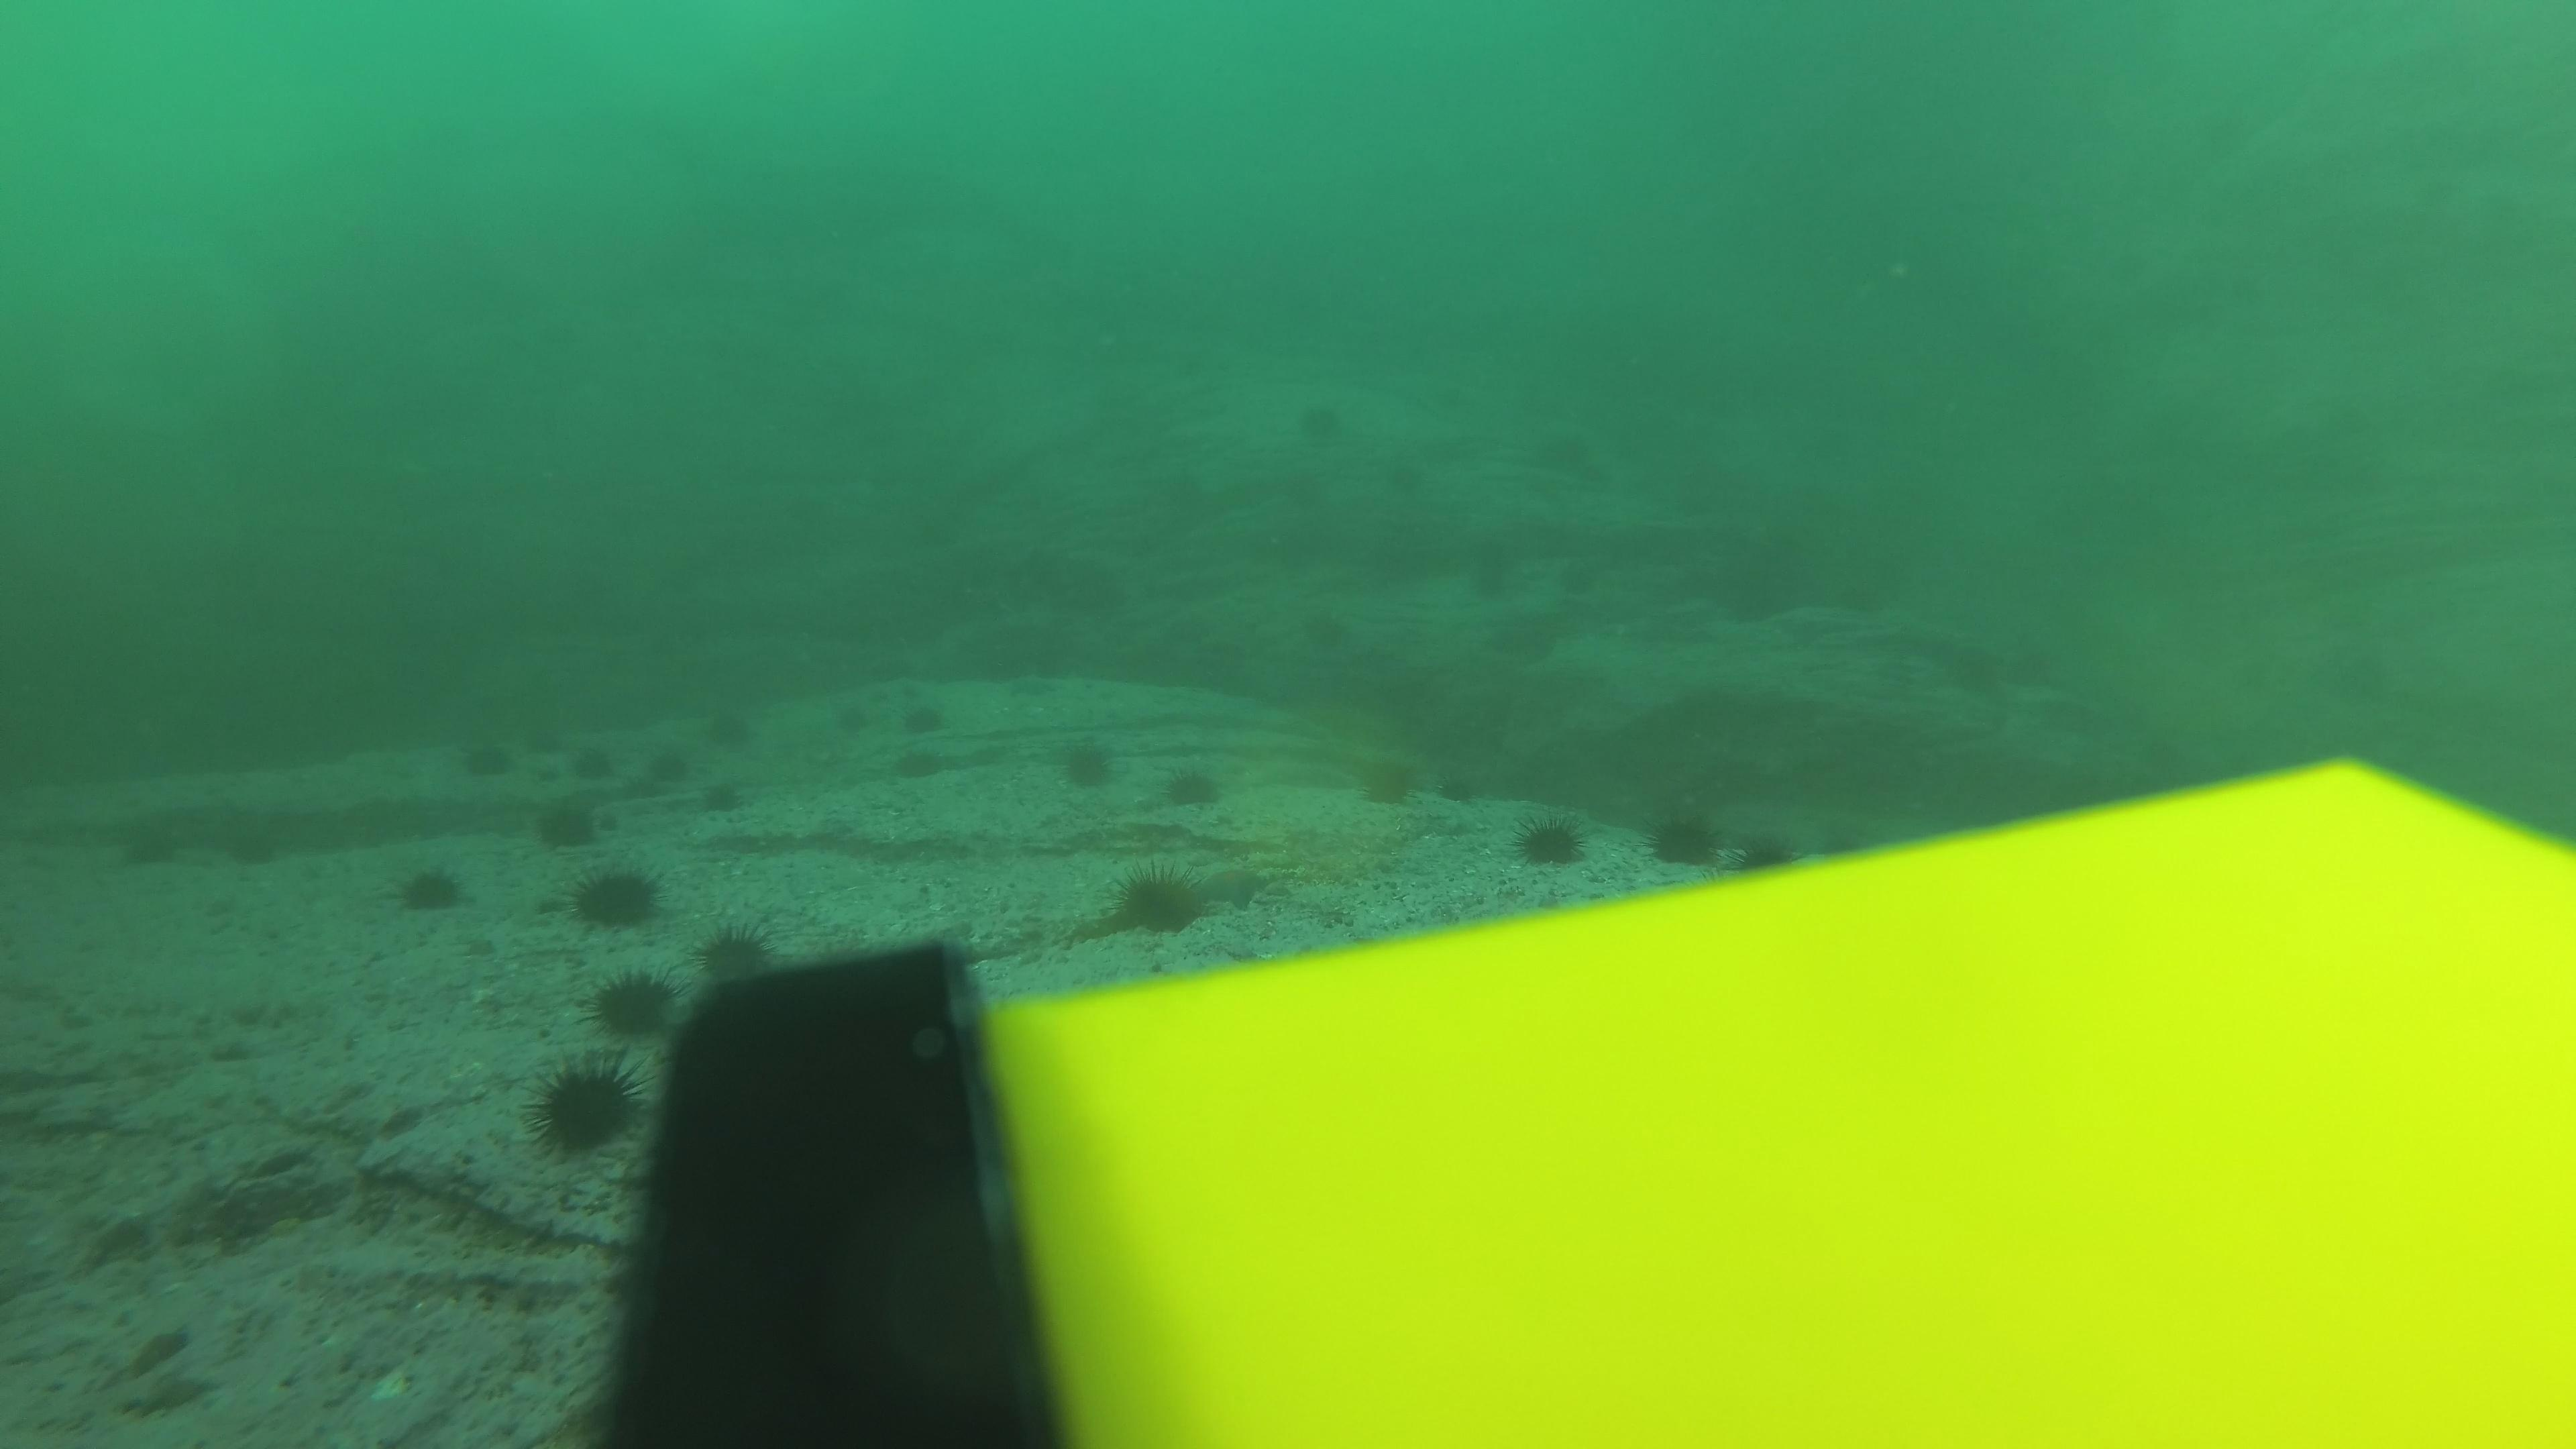echinus: (522, 1053, 644, 1161), (1100, 860, 1215, 943), (582, 964, 683, 1044), (566, 858, 667, 936), (1640, 800, 1732, 874), (1723, 823, 1815, 897), (692, 918, 782, 993), (1348, 743, 1433, 812), (1507, 807, 1592, 874), (389, 856, 472, 920), (1049, 729, 1123, 796), (531, 791, 609, 855), (1157, 757, 1230, 814), (2001, 637, 2065, 692), (885, 736, 950, 789), (1953, 651, 2015, 706), (1467, 559, 1529, 614), (1369, 545, 1431, 600), (1279, 391, 1341, 446), (1553, 563, 1617, 616), (1307, 609, 1371, 662), (1277, 527, 1341, 580), (1272, 465, 1336, 518), (640, 738, 704, 791), (699, 701, 763, 754), (886, 736, 950, 789), (226, 828, 290, 881), (124, 830, 188, 883), (1380, 455, 1442, 508), (1422, 370, 1484, 423), (1534, 416, 1596, 469), (453, 731, 517, 782), (695, 773, 750, 817), (899, 699, 952, 741), (579, 745, 623, 786), (525, 720, 568, 761), (837, 699, 876, 736)
starfish: (1187, 858, 1276, 916)
